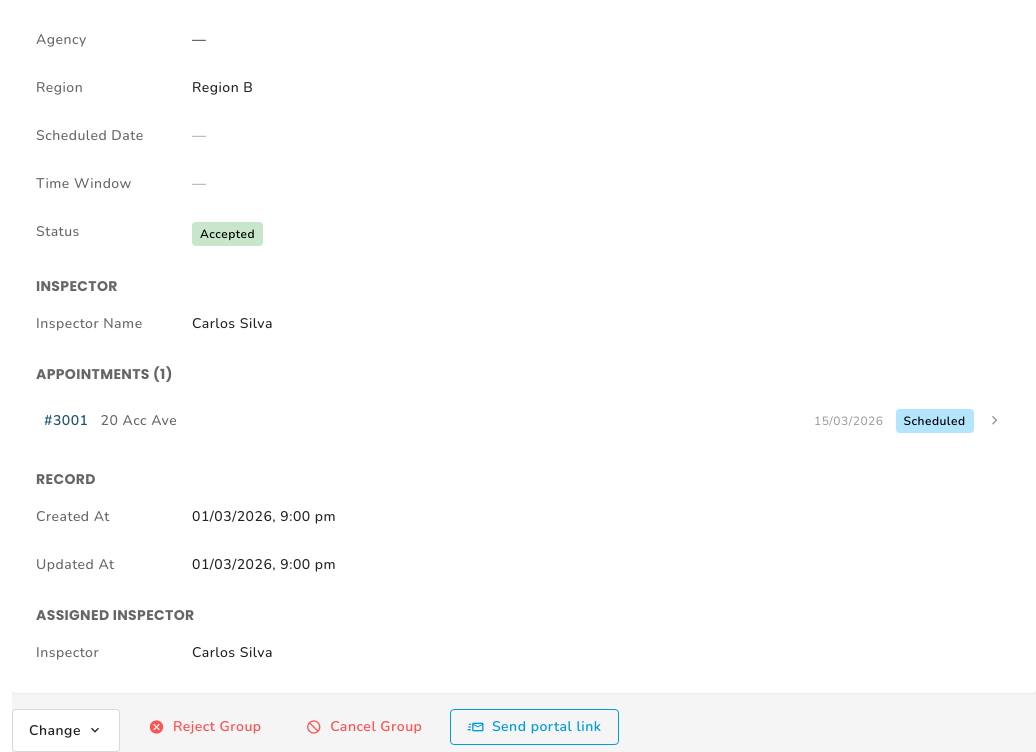
it: ServiceGroupDetailPage › keeps the Change-menu inspector item for ACCEPTED (replacement)
The width and height of the screenshot is (1036, 752).
(page scrolled)
What coordinates should you click on to do the following:
click the button with test id "service-group-change-trigger"
I would click on:
 (66, 730)
Its box is x1=12 y1=709 x2=120 y2=751.
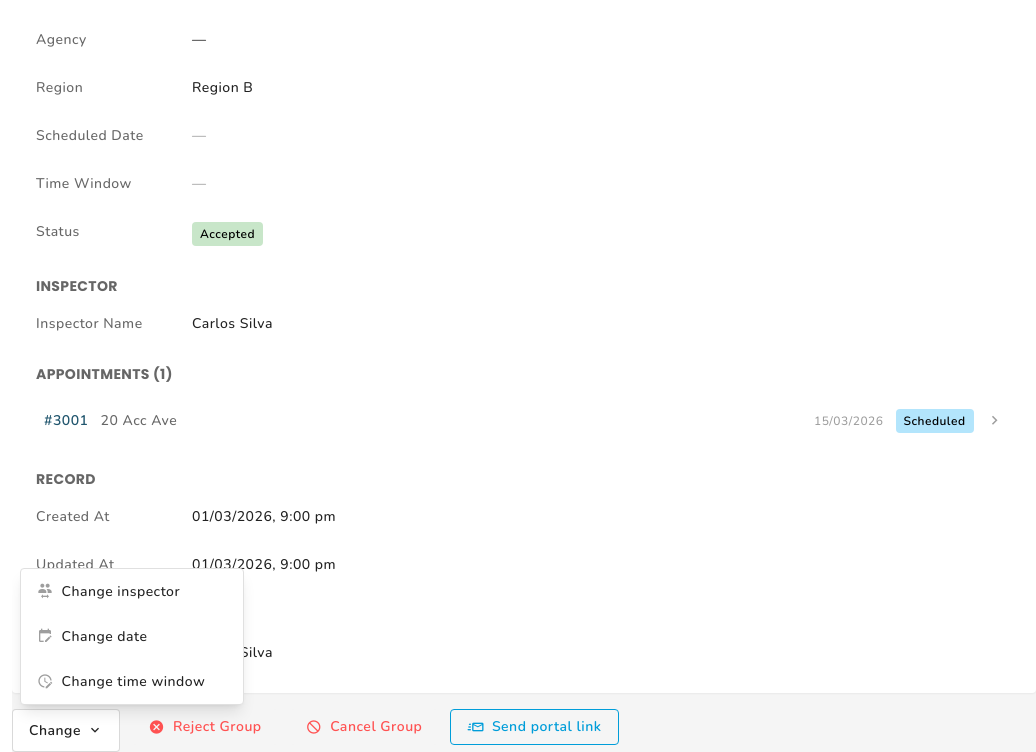
Expected: the menu item with test id "group-action-change-inspector" is shown, x1=21 y1=569 x2=243 y2=614
